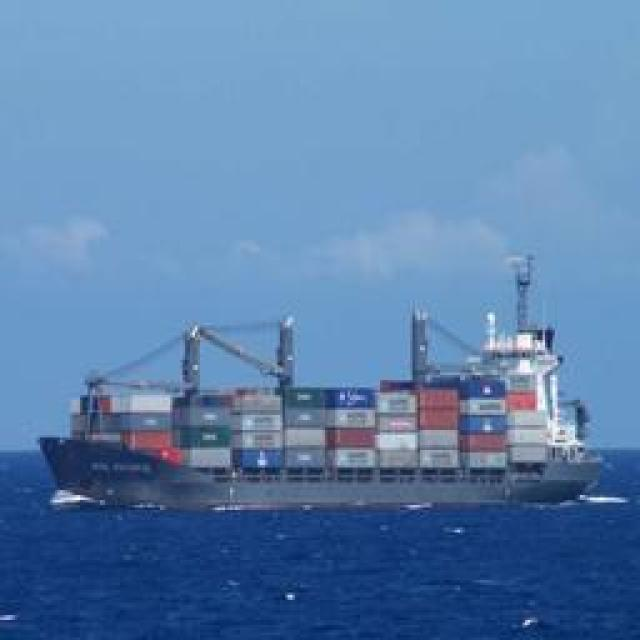ship2: (37, 256, 604, 514)
